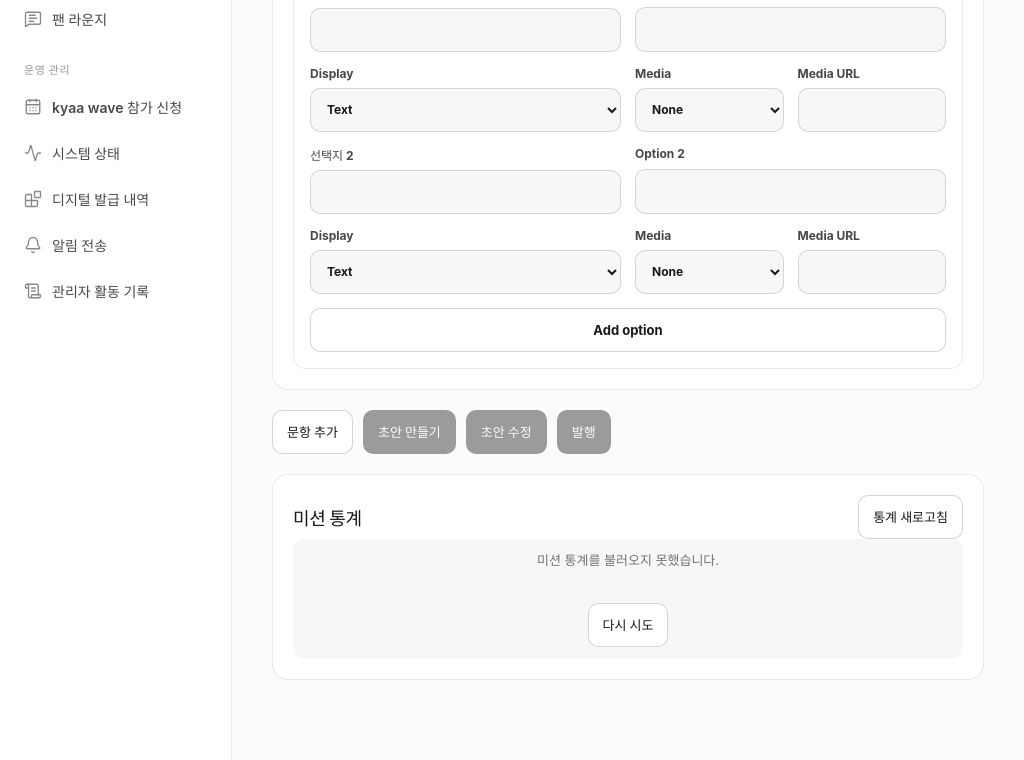
Test case: MissionBuilder › separates a statistics failure from an empty result and retries
The image size is (1024, 760).
(page scrolled)
Expected: the message reads "미션 통계를 불러오지 못했습니다.", [537, 552, 719, 568]
Step 1. Click the button "다시 시도" → (628, 625), box [588, 603, 668, 647]
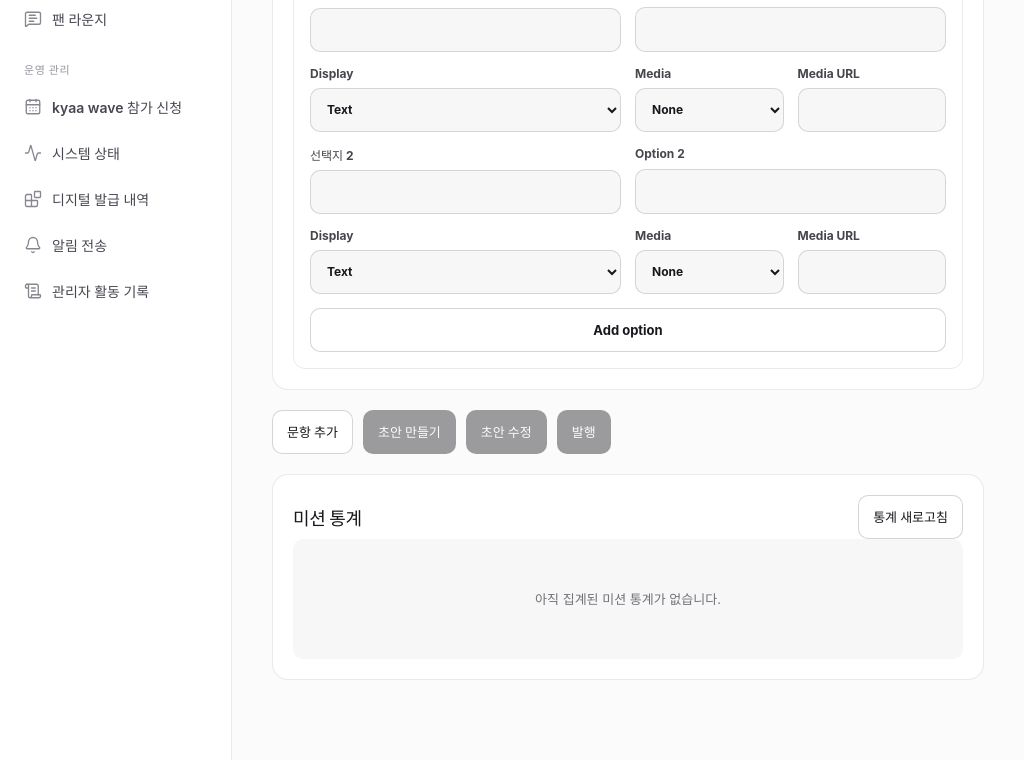
Expected: the text "아직 집계된 미션 통계가 없습니다." is shown, [293, 539, 963, 659]
